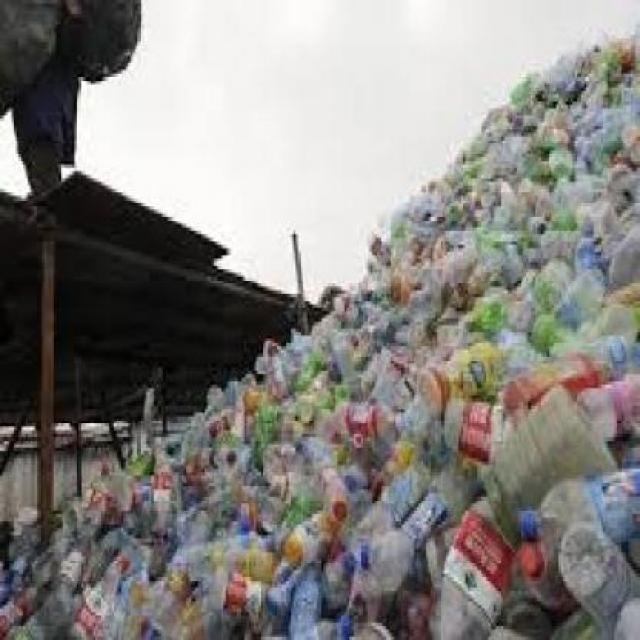garbage: (5, 445, 638, 638), (305, 171, 638, 346), (166, 349, 638, 472), (466, 91, 638, 172), (520, 33, 638, 92)
